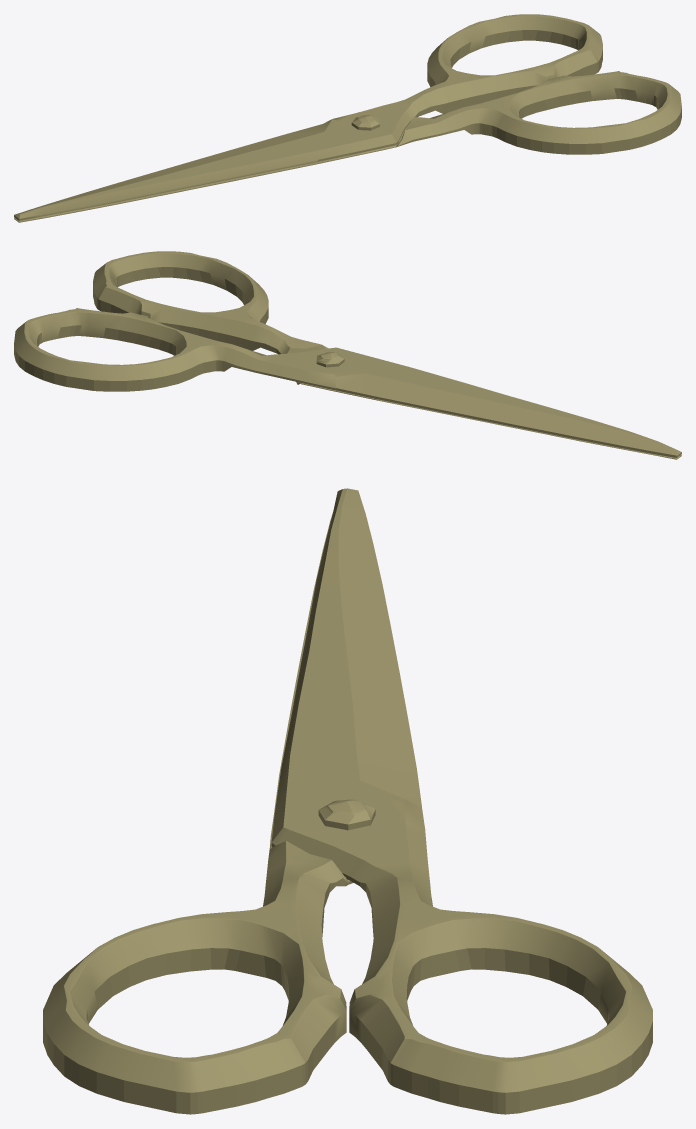
File: Scissor.fbx
3 renders of one model, top to bottom at view 1: azimuth 30°, elevation 25°; view 2: azimuth 150°, elevation 25°; view 3: azimuth 270°, elevation 25°, orthographic. The views are drawn at different scales.
Visible parts, largest first — view 1: Schere, Schere1; view 2: Schere, Schere1; view 3: Schere, Schere1.
Boxes of the visible parts, x1,y1,x2,y2 form: Schere: (14, 14, 602, 220); Schere1: (14, 71, 681, 222); Schere: (14, 308, 681, 457); Schere1: (93, 251, 681, 459); Schere: (271, 488, 652, 1114); Schere1: (43, 513, 353, 1114).
Size of the model in its own units: 20.32 by 0.7317 by 8.62.
